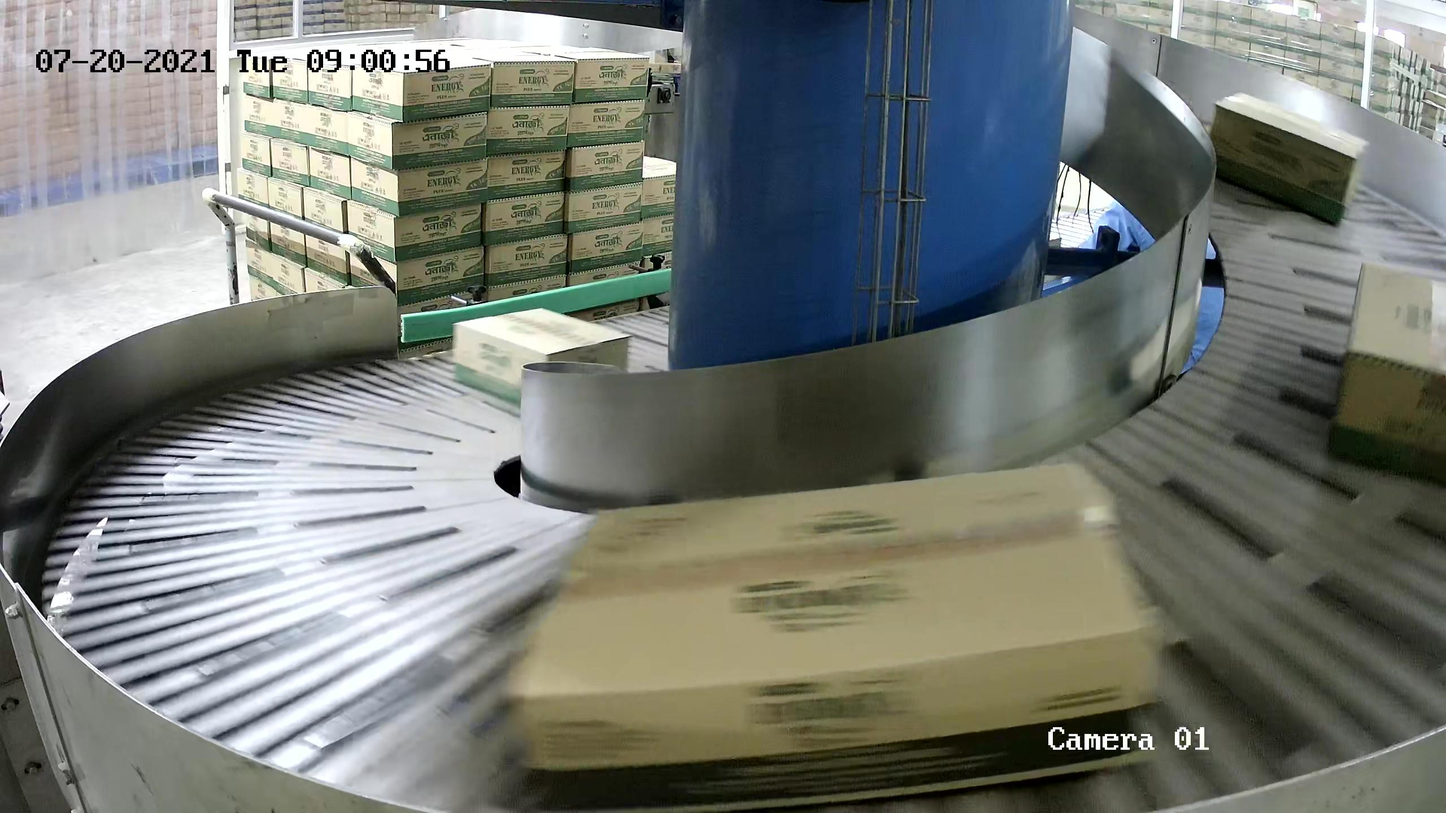Box: (496, 457, 1156, 813), (1321, 263, 1446, 490), (1206, 92, 1370, 234), (454, 305, 632, 413)
